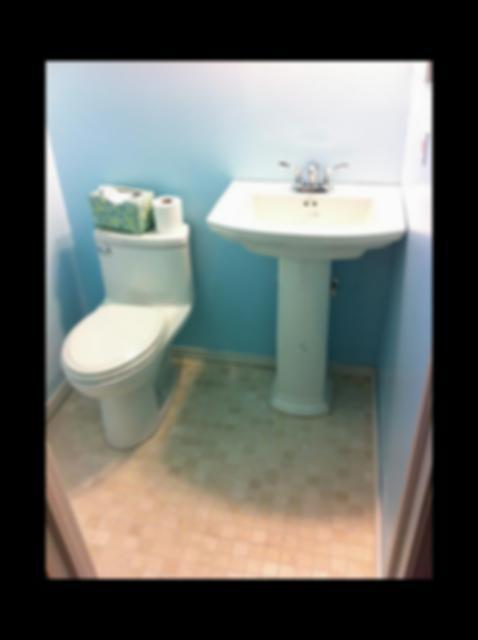Lavamanos: (211, 158, 404, 238)
Sanitario: (52, 221, 194, 456)
